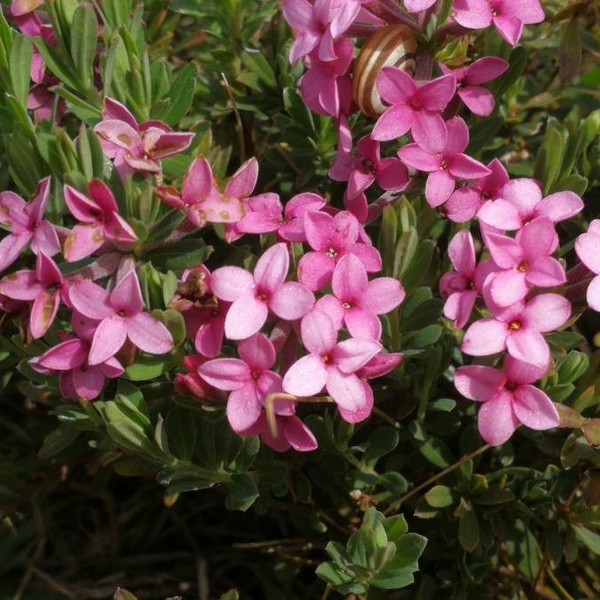obstacle: (18, 3, 381, 465), (376, 32, 576, 462)
